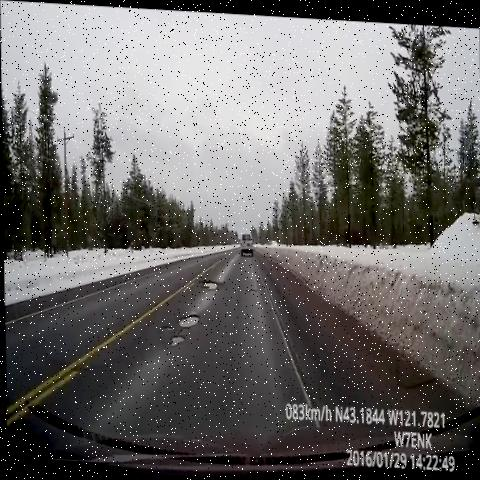pothole: (175, 306, 207, 333), (165, 324, 192, 354), (198, 270, 223, 297), (242, 282, 265, 298), (160, 316, 178, 335)
